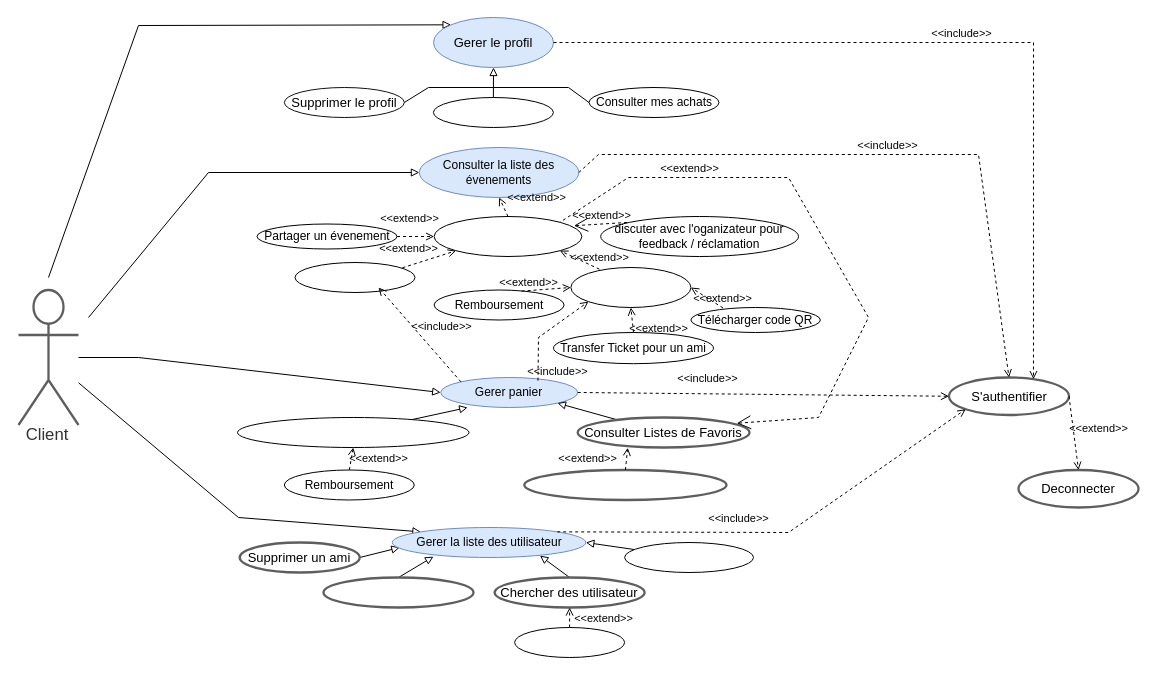
This 1157x675 diagram has some shape labels left out. Each missing label, with the centre of its shape:
"Accepter un utlisateur" goes at point (689, 557).
"ajouter aux favoris" goes at point (354, 277).
"Ajouter un ami 'abonner'" goes at point (398, 592).
"Consulter liste des evenement reserver" goes at point (352, 432).
"Consulter profil" goes at point (569, 642).
"Consulter un détail d'un evenement" goes at point (507, 236).
"Modifier le profil" goes at point (492, 112).
"Reserver un evenement" goes at point (630, 287).
"Supprimer de la liste de favoris" goes at point (625, 484).
